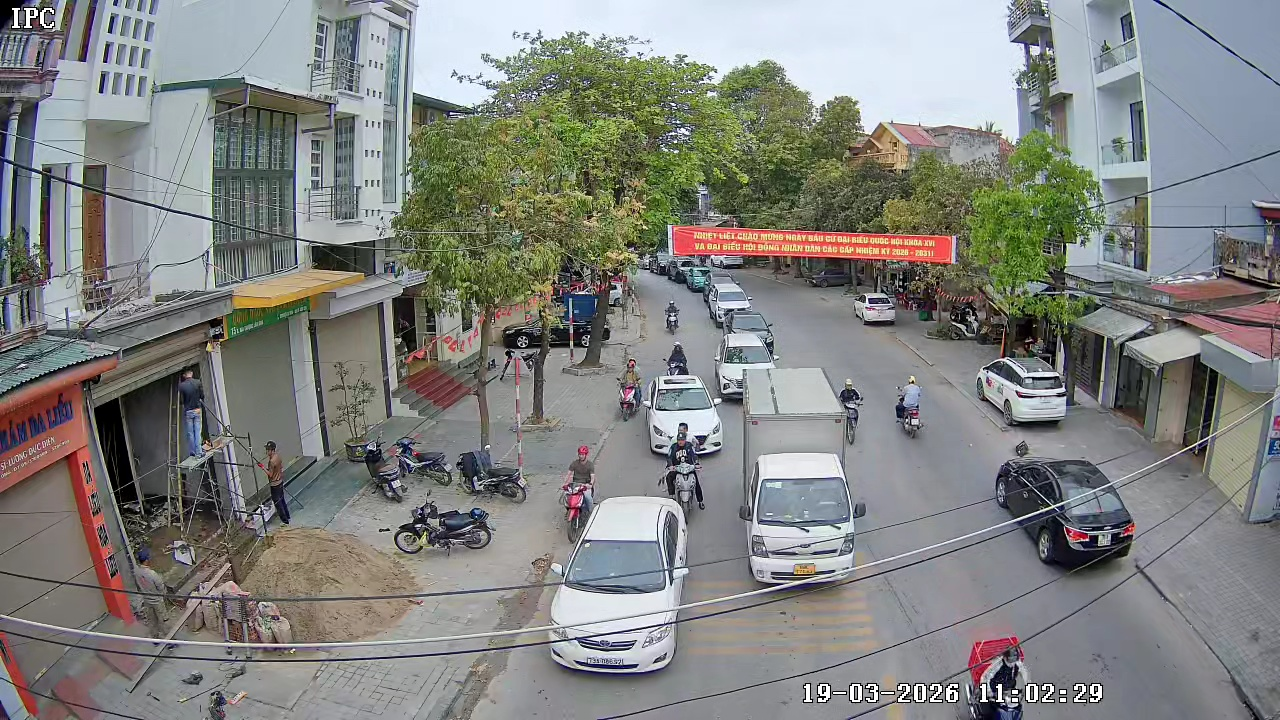bike: (837, 377, 865, 446)
car: (549, 493, 693, 675), (1001, 454, 1136, 570), (975, 353, 1068, 428), (643, 374, 725, 458), (729, 314, 778, 362), (714, 341, 750, 403), (707, 285, 752, 329), (857, 293, 897, 326)
motorbike: (393, 489, 496, 557), (455, 437, 531, 503), (559, 461, 598, 544), (669, 441, 707, 523), (894, 374, 925, 439), (837, 377, 865, 447), (616, 360, 641, 419), (665, 343, 690, 376), (663, 301, 678, 331)
pedestrian: (258, 440, 293, 530)
truck: (740, 361, 848, 589)
